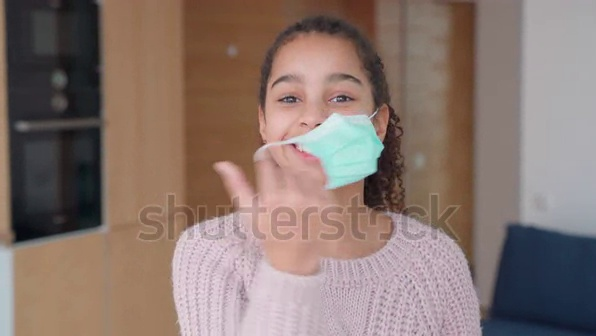Mask: (260, 119, 388, 198)
